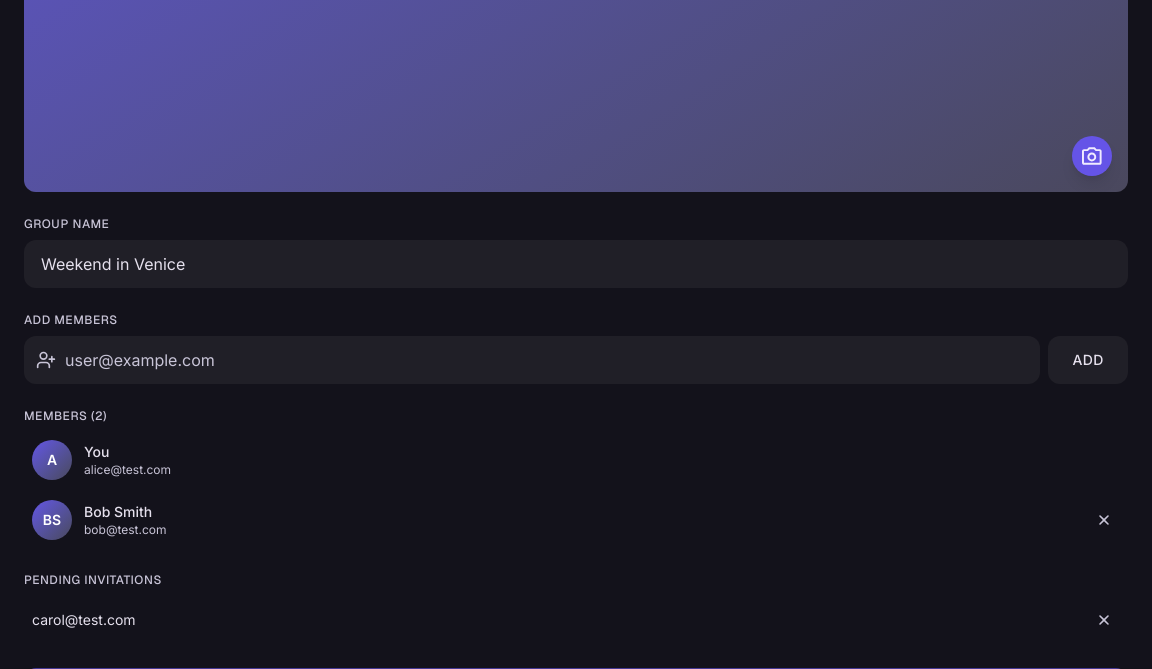
Test: GroupSettingsPanel › shows server-supplied message when addMember fails with a response message
The image size is (1152, 669).
(page scrolled)
Step 1. Type "carol@test.com" into the field with placeholder "user@example.com" → (532, 360), box [24, 336, 1040, 384]
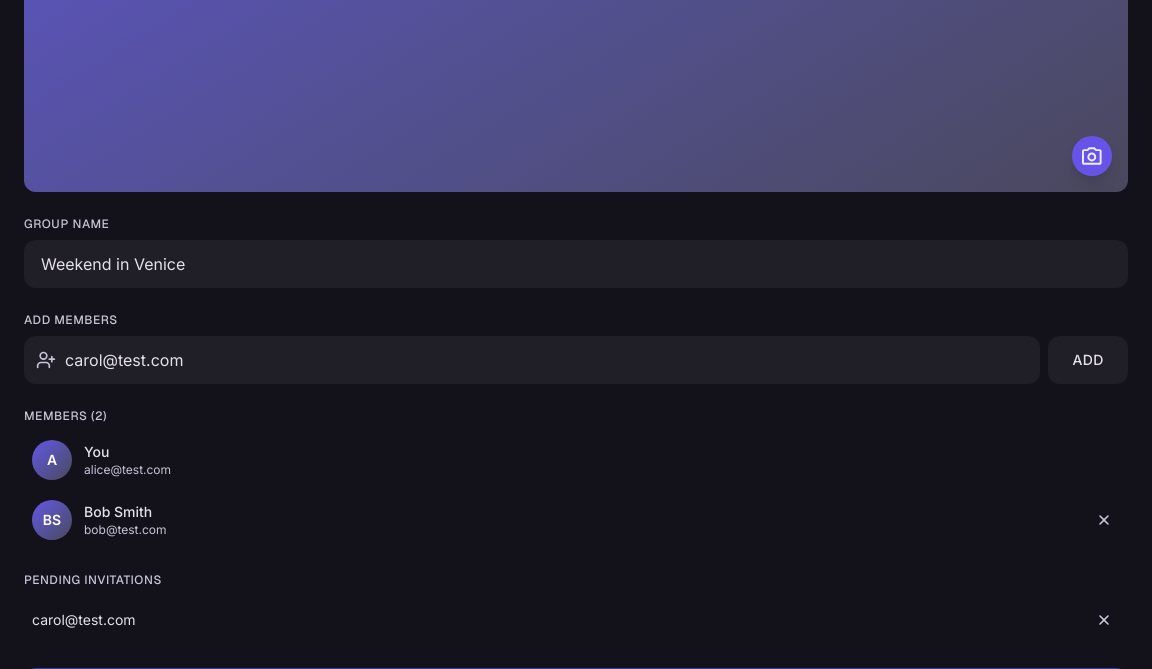
Step 2. Submit the form, box [24, 336, 1128, 384]
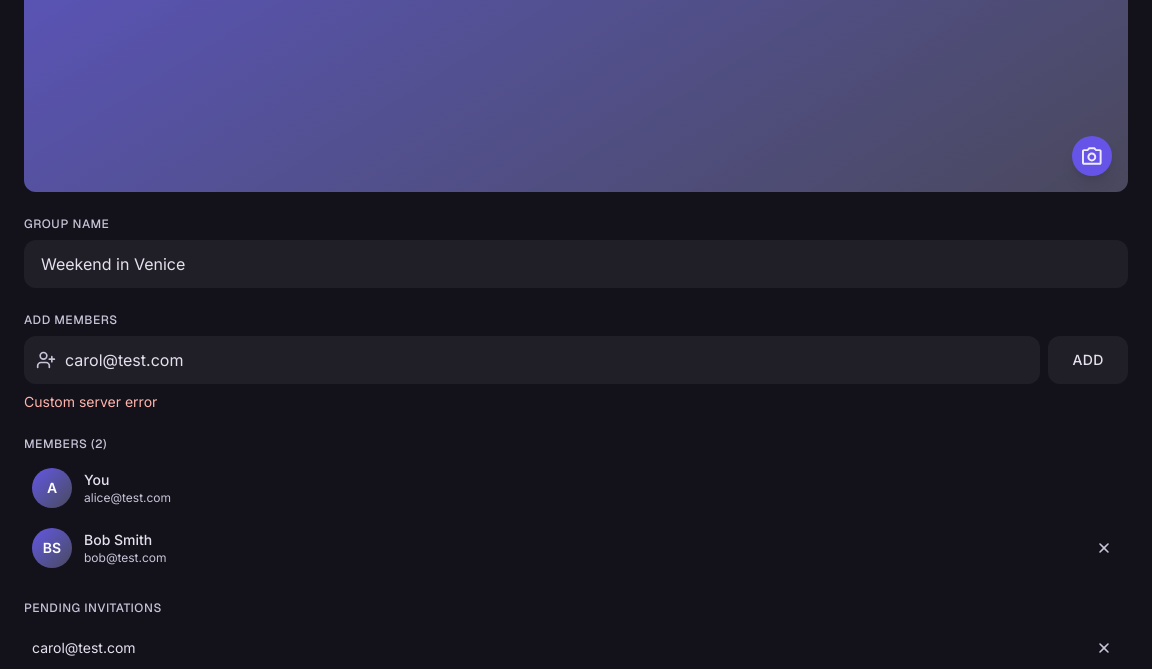
Expected: the text "Custom server error" is shown, [24, 393, 157, 410]
